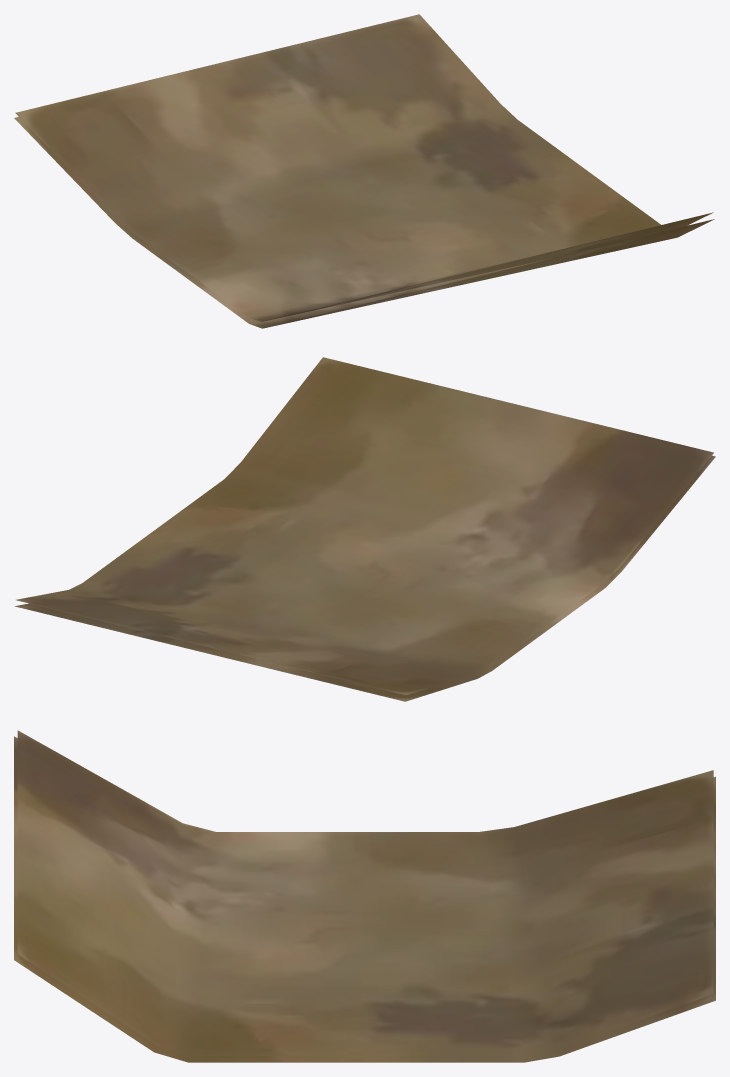
The picture shows the model from 3 angles, top to bottom: view 1: azimuth 30°, elevation 25°; view 2: azimuth 150°, elevation 25°; view 3: azimuth 270°, elevation 25°; orthographic projection. The views are drawn at different scales.
Visible parts, largest first — view 1: SM_DR_Page_02_LOD0; view 2: SM_DR_Page_02_LOD0; view 3: SM_DR_Page_02_LOD0.
Boxes of the visible parts, x1,y1,x2,y2 form: SM_DR_Page_02_LOD0: (14,14,714,328); SM_DR_Page_02_LOD0: (15,357,715,701); SM_DR_Page_02_LOD0: (14,730,715,1062).
Size of the model in its own units: 0.2715 by 0.05 by 0.3378.
Materials: 1 (1 with a texture image).
